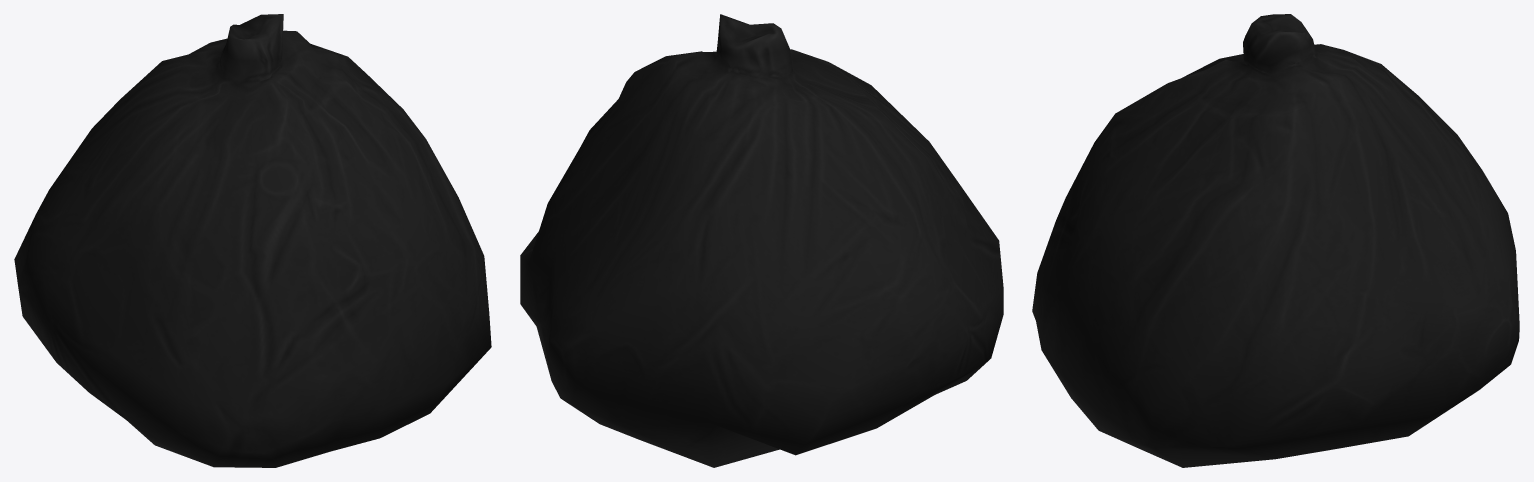
File: Rubbish_Sack.fbx
The picture shows the model from 3 angles, left to right: view 1: azimuth 30°, elevation 25°; view 2: azimuth 150°, elevation 25°; view 3: azimuth 270°, elevation 25°; orthographic projection. The views are drawn at different scales.
Parts seen in each view (by area): view 1: Rubbish_Sack; view 2: Rubbish_Sack; view 3: Rubbish_Sack.
Part boxes in pixels (x1,y1,x2,y2): Rubbish_Sack: [14, 14, 491, 467]; Rubbish_Sack: [520, 14, 1003, 467]; Rubbish_Sack: [1032, 14, 1519, 467].
Bounding box in the file's own units: 64.32 × 58.23 × 64.33.
